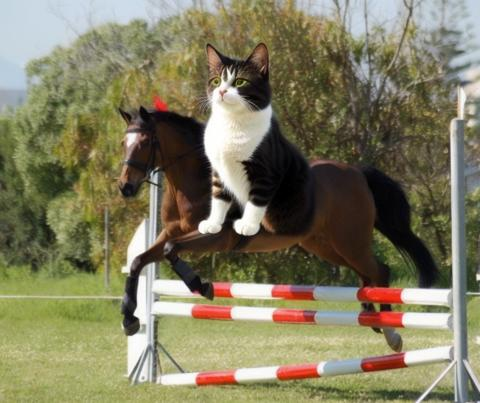cat: (197, 41, 315, 237)
horse: (116, 105, 406, 351)
